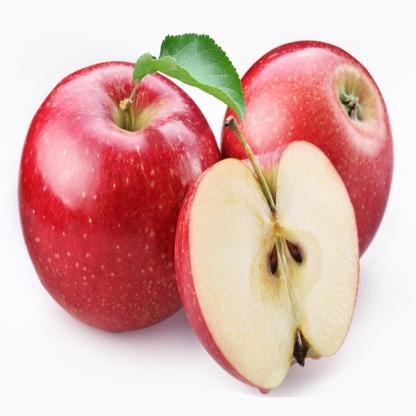apple: (16, 57, 228, 356), (210, 40, 393, 299)
